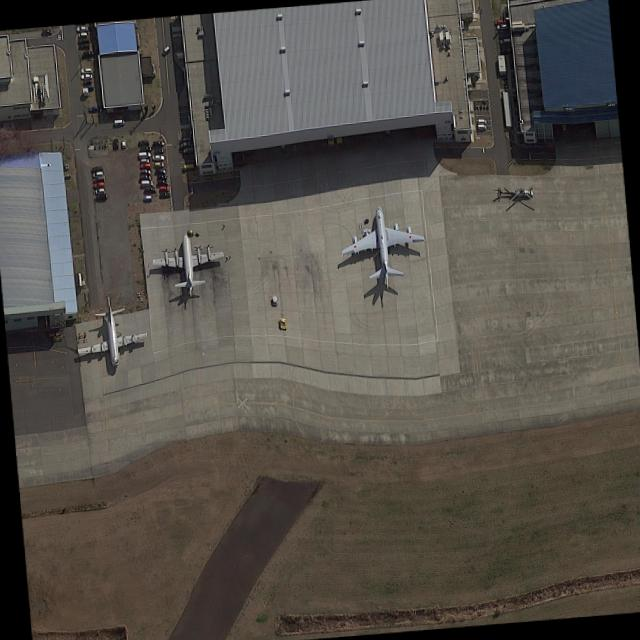large-vehicle: (270, 293, 278, 305)
plane: (338, 202, 429, 282), (71, 287, 150, 376), (152, 228, 226, 289)
small-vehicle: (91, 168, 104, 176), (80, 65, 93, 73), (41, 27, 55, 34), (496, 21, 508, 29), (95, 192, 108, 199), (152, 152, 164, 159), (75, 24, 89, 30), (76, 30, 88, 37), (111, 137, 118, 149), (93, 180, 105, 187), (139, 161, 151, 168), (142, 194, 153, 201), (138, 137, 149, 144), (80, 72, 91, 79), (77, 44, 89, 50), (156, 178, 168, 184), (495, 17, 507, 23), (498, 36, 510, 42), (113, 118, 125, 124), (93, 174, 105, 180), (138, 150, 150, 156), (140, 178, 152, 184), (152, 139, 162, 146), (82, 49, 92, 56), (120, 137, 127, 147), (156, 173, 167, 179), (159, 191, 170, 197), (140, 145, 151, 151), (139, 167, 150, 173), (153, 146, 163, 152), (94, 186, 104, 192), (139, 173, 151, 178), (155, 167, 166, 172), (139, 157, 150, 162), (155, 160, 164, 166), (159, 184, 168, 190)
